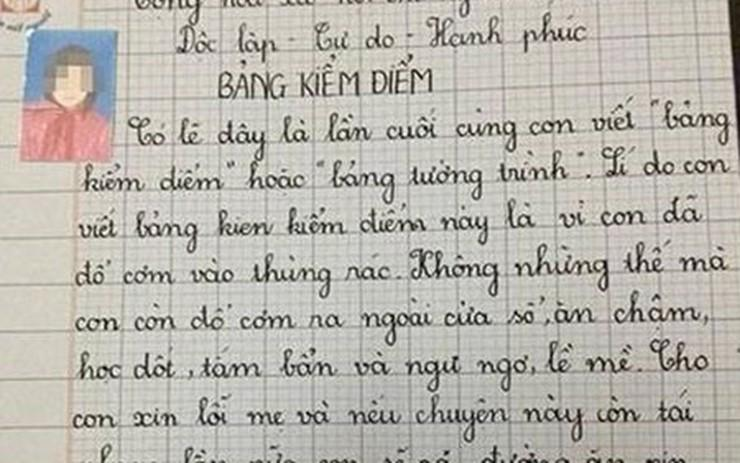text: (73, 236, 732, 304), (124, 91, 732, 163), (77, 143, 734, 207), (76, 191, 706, 256), (71, 287, 711, 350), (71, 336, 711, 397), (67, 388, 698, 446), (173, 9, 590, 65), (95, 441, 691, 463), (214, 50, 437, 106), (131, 0, 472, 27)
